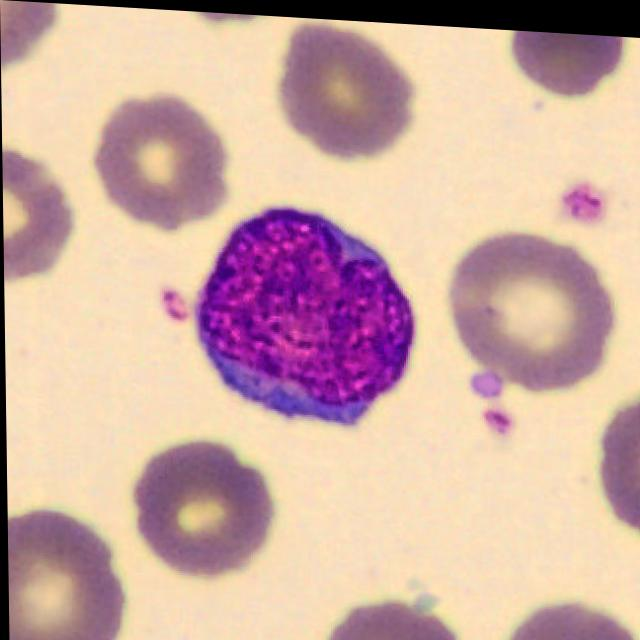Linfocito: (195, 204, 415, 423)
